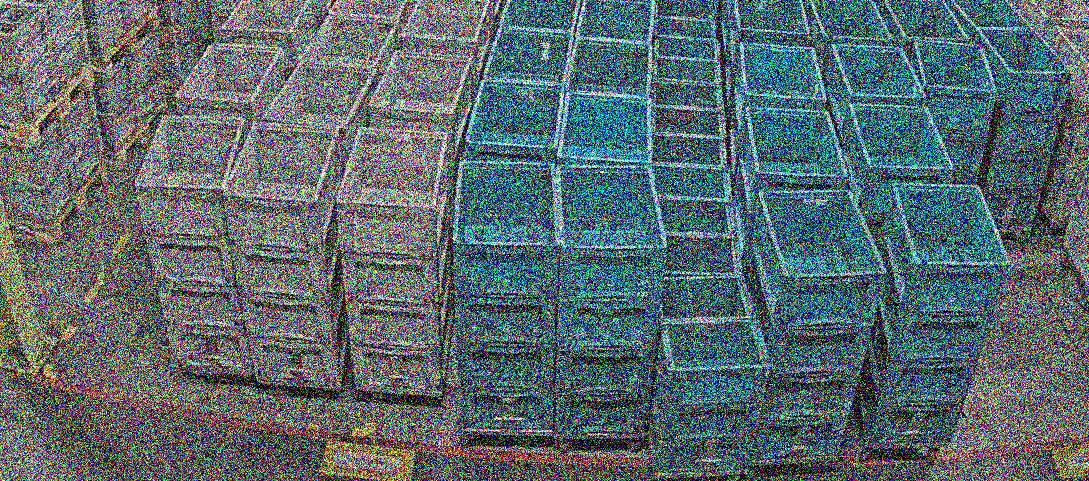4G: (221, 121, 349, 386), (334, 126, 453, 393), (133, 114, 254, 375)
B4: (856, 181, 1014, 444), (746, 188, 888, 461), (555, 163, 670, 436), (451, 159, 560, 433), (909, 38, 999, 186)
B8: (648, 274, 772, 475)
